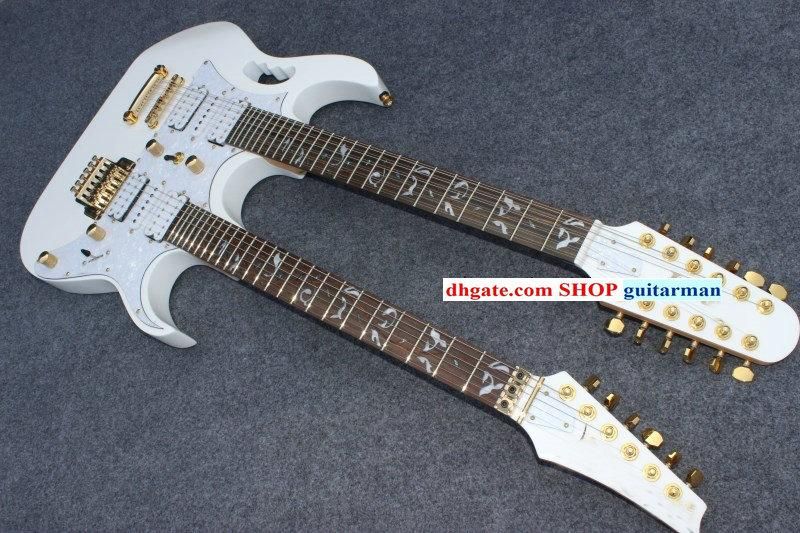ElectricGuitar: (72, 23, 799, 509)
